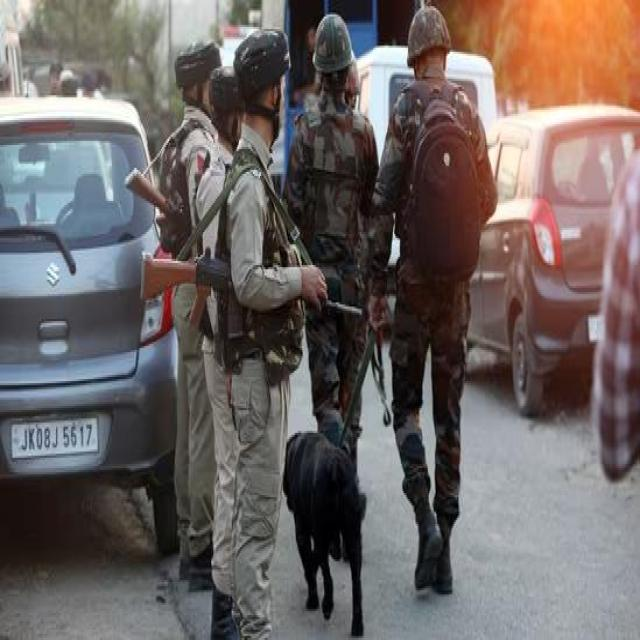plate: (7, 412, 101, 467)
